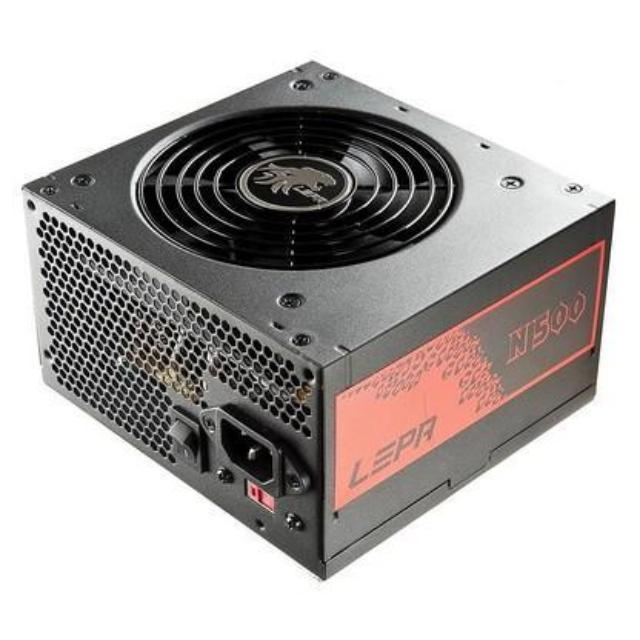PSU: (26, 41, 620, 581)
